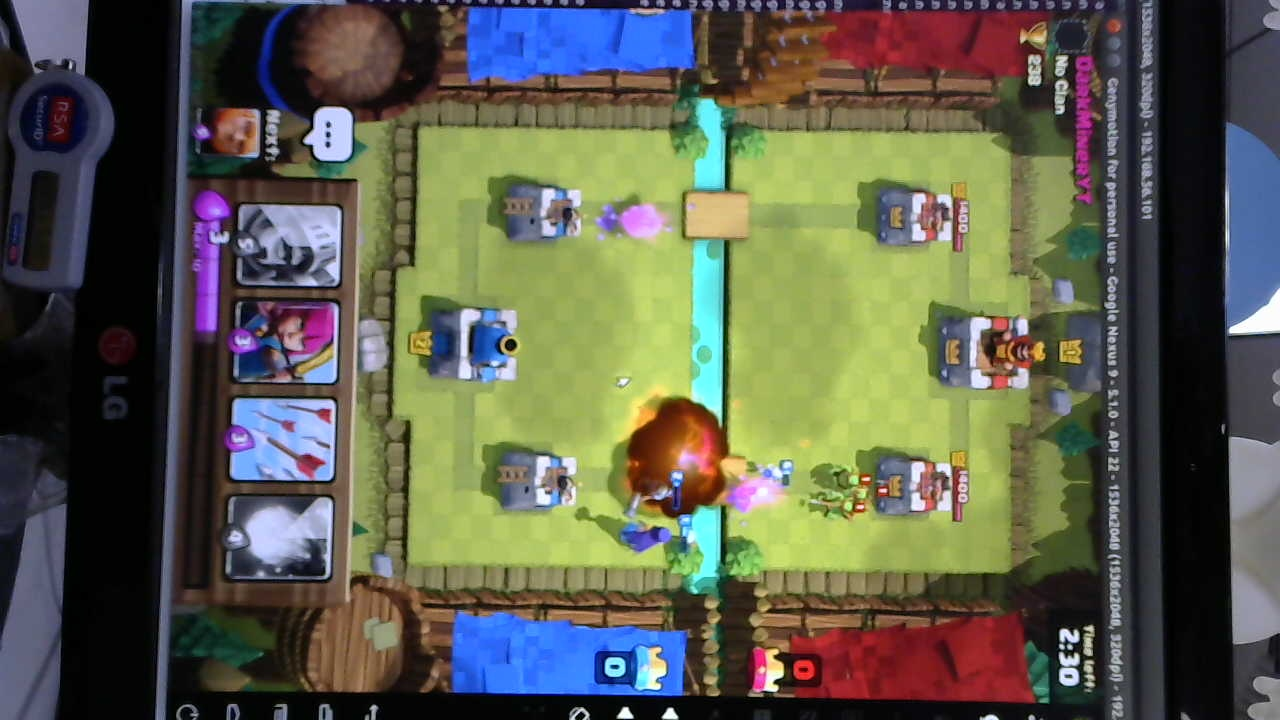arena: (503, 447, 581, 512), (509, 183, 586, 245)
earena: (875, 185, 958, 246), (880, 453, 952, 520)
eking: (931, 313, 1038, 393)
king: (432, 303, 523, 382)
musketeer: (627, 477, 673, 523)
speargoblins: (809, 458, 876, 523)
witch: (612, 517, 678, 554)
